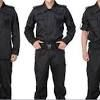gun: (30, 2, 70, 98)
